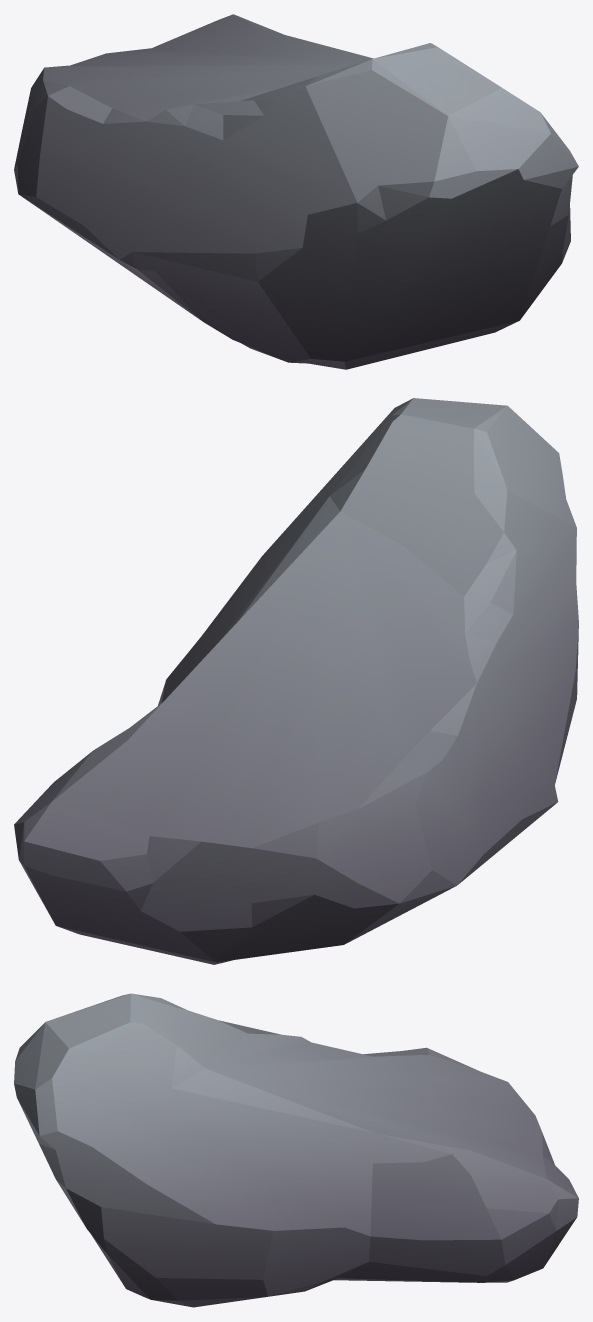
The model's file is rock_3_02.fbx.
3 views of the same model, one above another, from view 1: azimuth 30°, elevation 25°; view 2: azimuth 150°, elevation 25°; view 3: azimuth 270°, elevation 25° (orthographic). The views are drawn at different scales.
Visible parts, largest first — view 1: rock_3_02; view 2: rock_3_02; view 3: rock_3_02.
Boxes of the visible parts, x1=… form: rock_3_02: x1=14, y1=14, x2=578, y2=369; rock_3_02: x1=14, y1=398, x2=578, y2=964; rock_3_02: x1=14, y1=993, x2=578, y2=1307.
Size of the model in its own units: 75.39 by 63.64 by 126.
